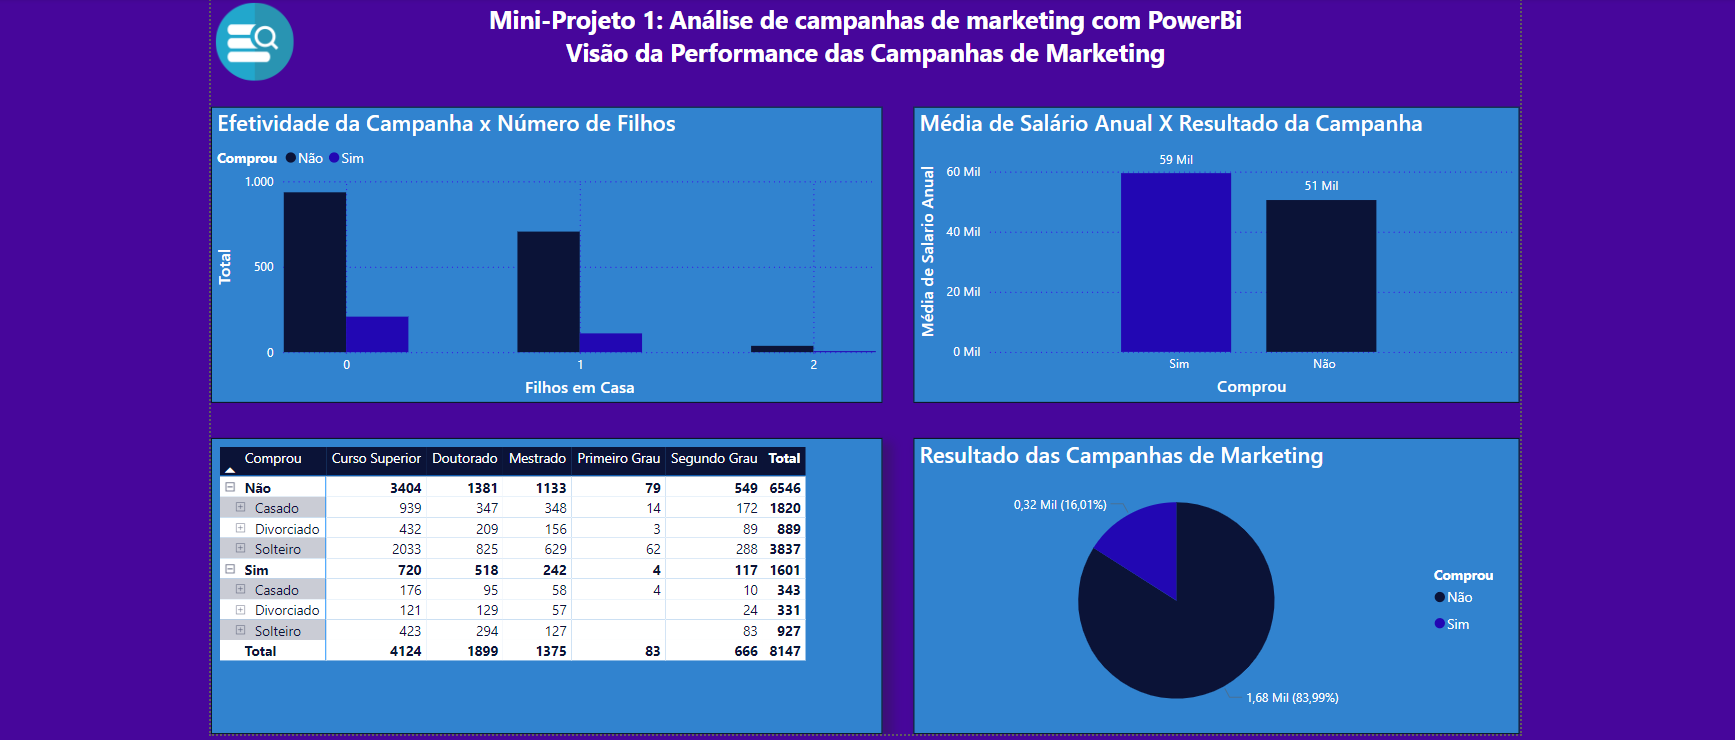

The page's visual inventory and layout, read from the dashboard file:
{"tool":"powerbi","page":{"name":"Performance das campanhas de marketing","canvas":[1280,720],"ordinal":2},"visuals":[{"type":"textbox","box":[0,0,1280.3,106.4],"z":0},{"type":"image","box":[0,0,85.6,85.6],"z":1000},{"type":"pieChart","title":"Resultado das Campanhas de Marketing","fields":{"Category":["Dados Marketing.Comprou"],"Y":["CountNonNull(Dados Marketing.ID)"]},"box":[687.2,430.4,593.1,289.8],"z":2000},{"type":"clusteredColumnChart","title":"Média de Salário Anual X Resultado da Campanha","fields":{"Category":["Dados Marketing.Comprou"],"Y":["Avg(Dados Marketing.Salario Anual)"]},"box":[687.2,106.4,593.1,289.8],"z":3000},{"type":"pivotTable","fields":{"Rows":["Dados Marketing.Comprou","Dados Marketing.Estado Civil","Dados Marketing.Pais"],"Values":["Sum(Dados Marketing.Numero de Compras na Web)"],"Columns":["Dados Marketing.Escolaridade"]},"box":[0,430.4,656.7,289.8],"z":4000},{"type":"clusteredColumnChart","title":"Efetividade da Campanha x Número de Filhos","fields":{"Y":["CountNonNull(Dados Marketing.Filhos em Casa)"],"Category":["Dados Marketing.Filhos em Casa"],"Series":["Dados Marketing.Comprou"]},"box":[0,106.4,656.7,289.8],"z":5000}]}

Visuals, with their boxes on the page's 1280x720 design canvas (x1, y1, x2, y2). These are canvas units, not pixel positions in the 1735x740 screenshot, which may show the page scaled, cropped or inside an application window:
textbox: (0, 0, 1280, 106)
image: (0, 0, 86, 86)
"Resultado das Campanhas de Marketing" pieChart: (687, 430, 1280, 720)
"Média de Salário Anual X Resultado da Campanha" clusteredColumnChart: (687, 106, 1280, 396)
pivotTable - Dados Marketing.Comprou x Dados Marketing.Estado Civil: (0, 430, 657, 720)
"Efetividade da Campanha x Número de Filhos" clusteredColumnChart: (0, 106, 657, 396)
